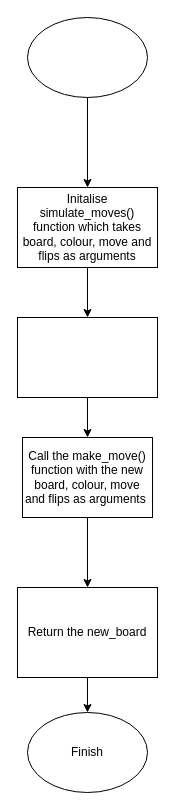
Image size: 175x810. Some labels were removed from this diagram. The shapes that lost their labels are listed below. From the top down, each one's centre as x and y in pixels, then its label:
At point (87, 57): "Start".
At point (87, 357): "Copy the board to a new list board_copy".
